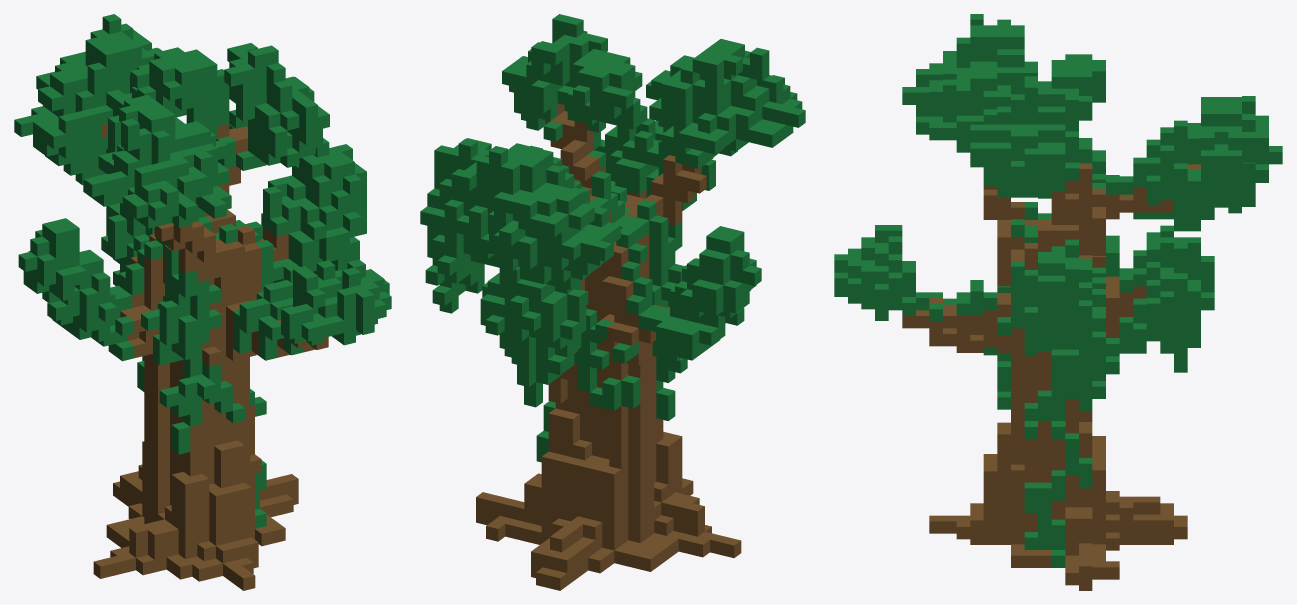
File: Arbol_00.fbx
The picture shows the model from 3 angles, left to right: view 1: azimuth 30°, elevation 25°; view 2: azimuth 150°, elevation 25°; view 3: azimuth 270°, elevation 25°; orthographic projection. The views are drawn at different scales.
Visible parts, largest first — view 1: _arbol00; view 2: _arbol00; view 3: _arbol00.
Part boxes in pixels (box(x1,y1,x2,y2)): _arbol00: box(14, 14, 391, 590); _arbol00: box(420, 14, 805, 590); _arbol00: box(834, 14, 1282, 590).
Bounding box in the file's own units: 270 × 390 × 330.
1 material, 1 textured.
